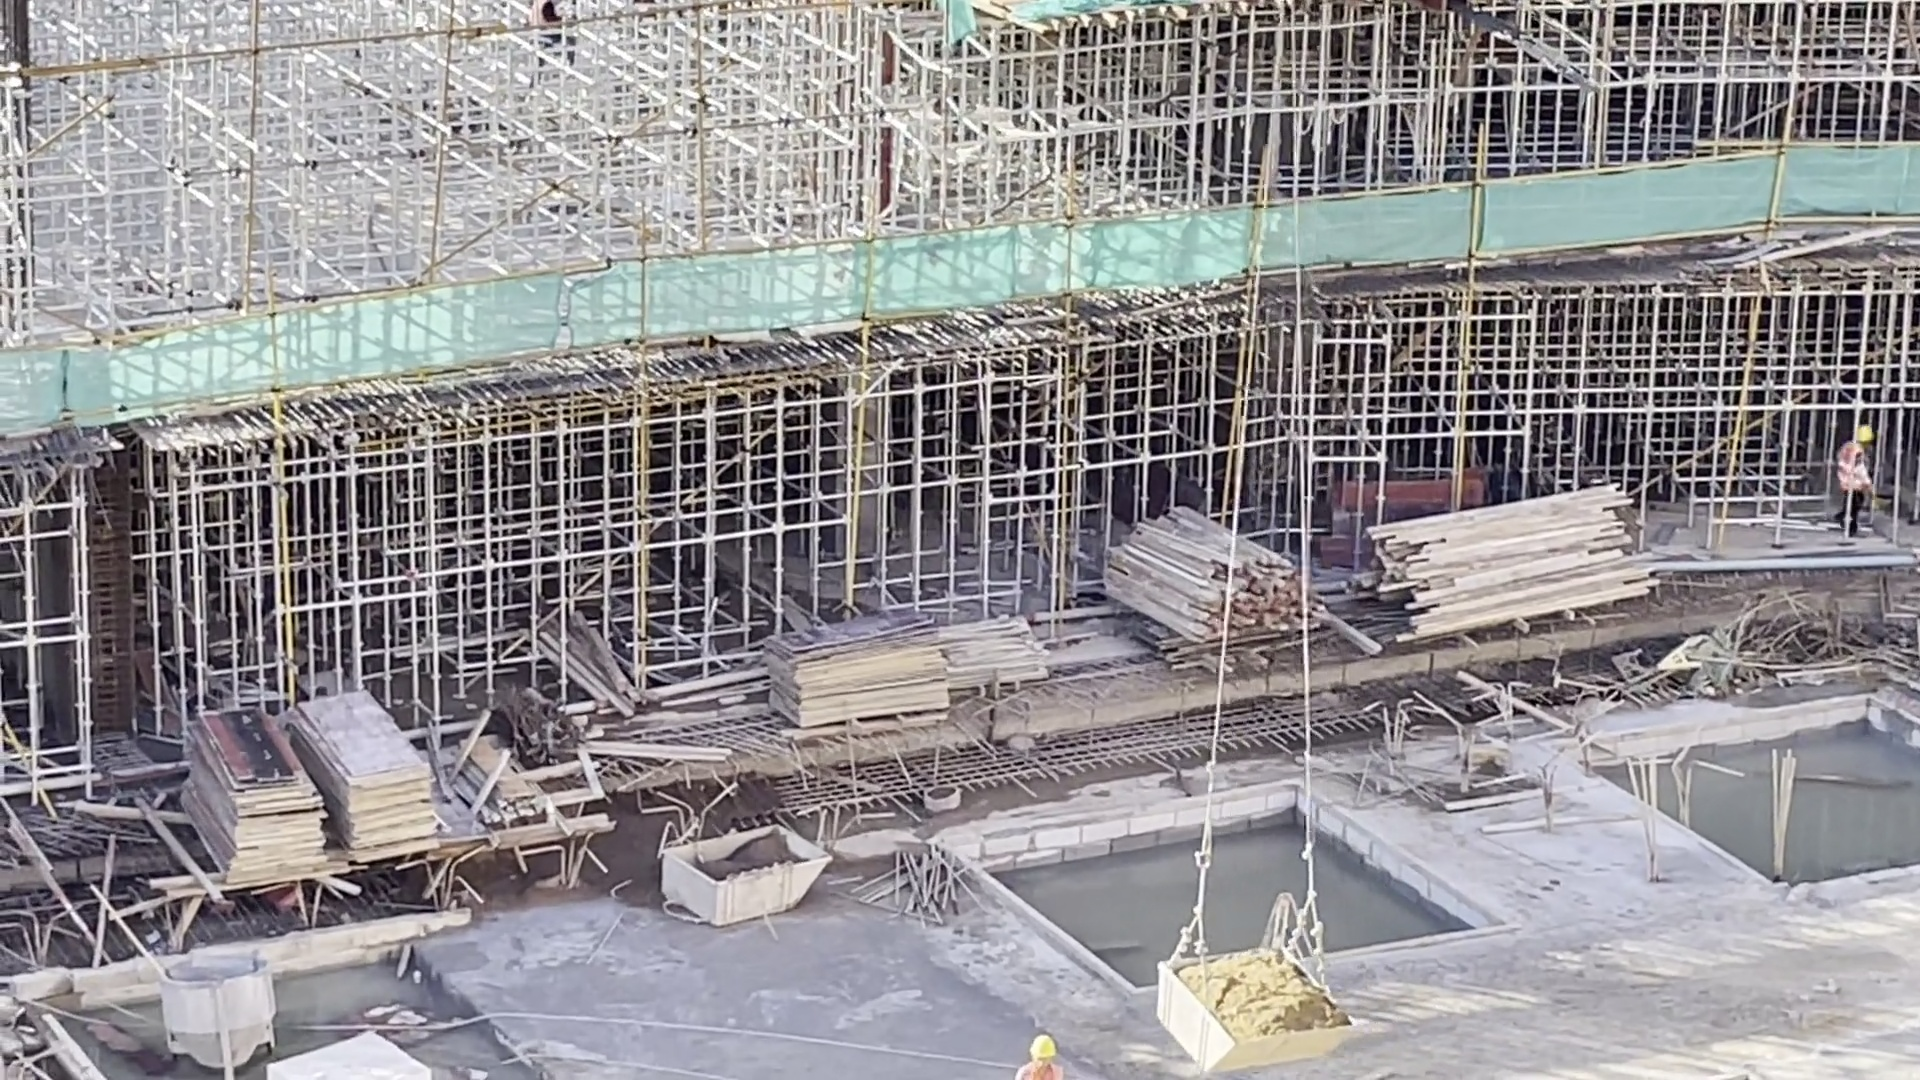board: (288, 683, 451, 872), (170, 704, 329, 894), (748, 605, 955, 732)
brick: (267, 1024, 433, 1080)
helmet: (1028, 1034, 1058, 1059), (1855, 425, 1874, 444)
hopper: (1140, 946, 1352, 1075), (654, 817, 829, 931), (151, 950, 280, 1076)
person: (1839, 423, 1873, 542), (1007, 1033, 1073, 1080)
vest: (1841, 442, 1870, 492)
wood: (1370, 482, 1660, 632), (1103, 505, 1328, 642)
